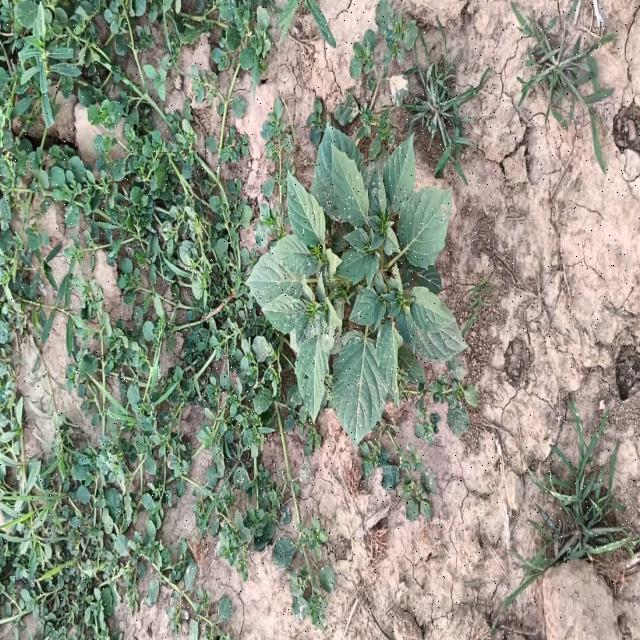weed: (247, 123, 467, 444)
